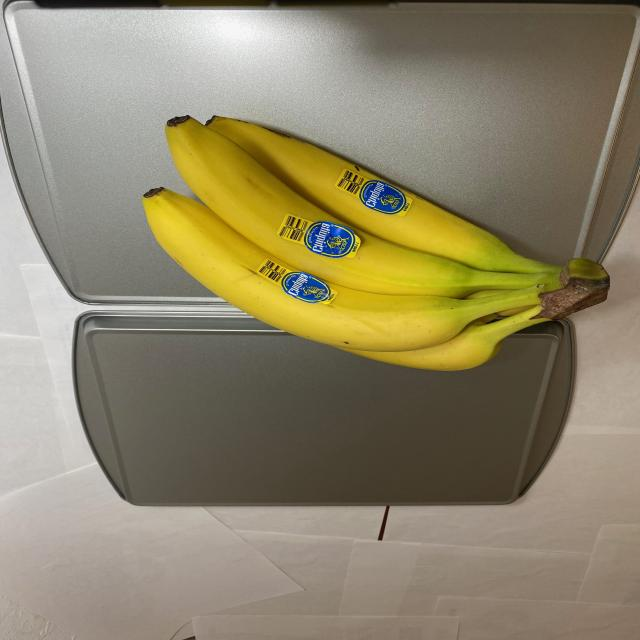banana: (141, 99, 622, 377)
